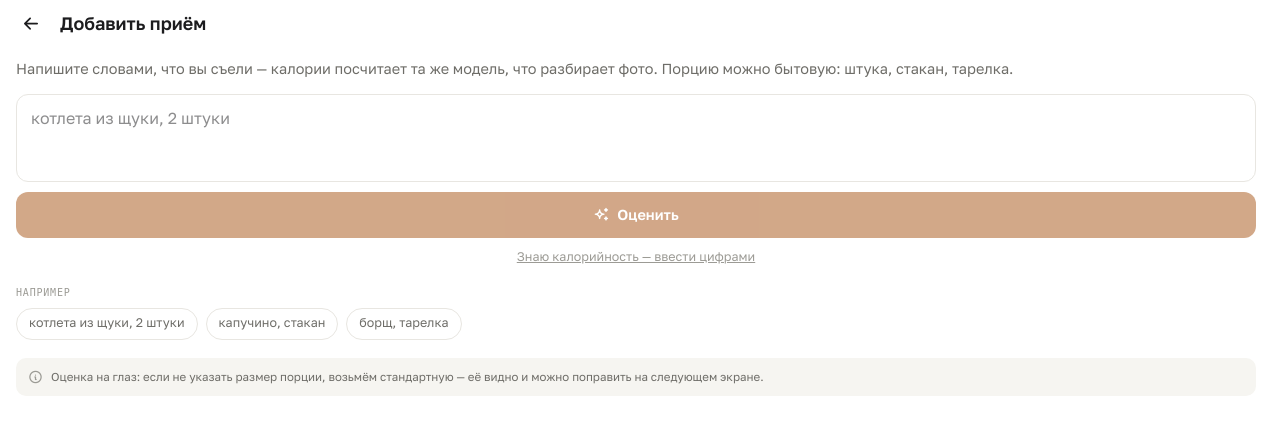
Scenario: AddMealTextScreen — текстовое добавление приёма › «не еда» остаётся на экране с подсказкой — квота за это не списана
Type "asdfgh" into the text box named "Описание приёма".
click(636, 138); type("asdfgh")  # box top-left (16, 94), bottom-right (1256, 182)
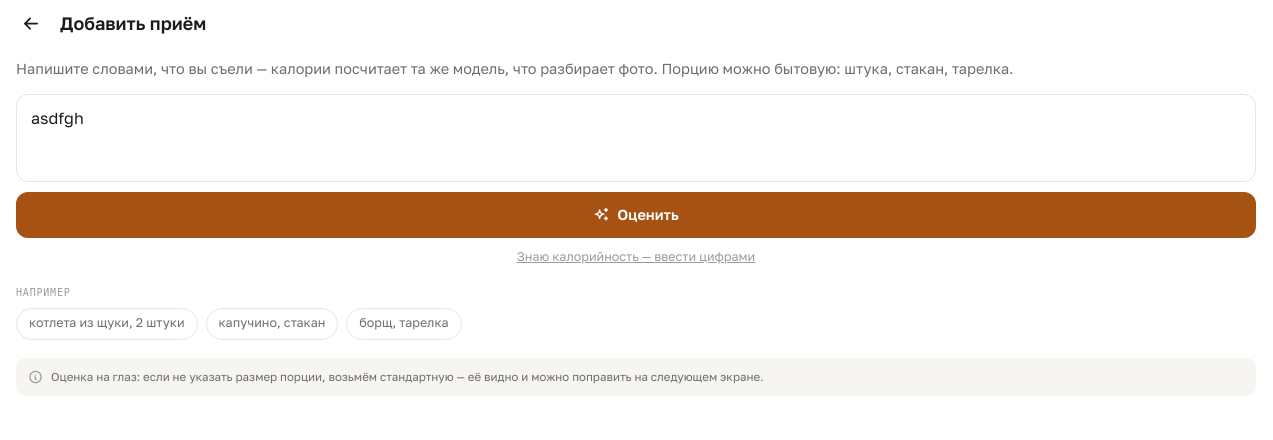
Click the button "Оценить".
click(636, 215)  # box top-left (16, 192), bottom-right (1256, 238)
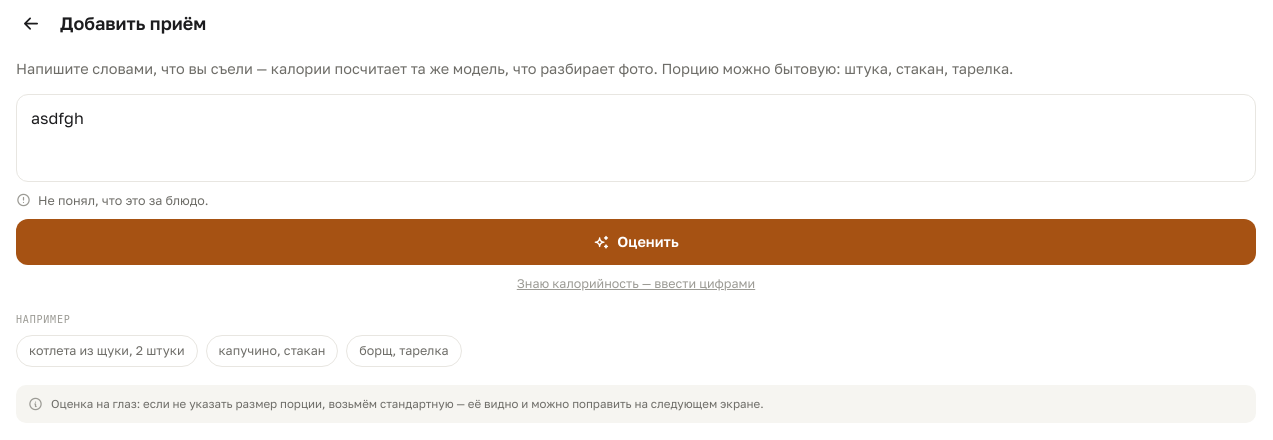
Expected: the text "Не понял, что это за блюдо." is shown, top-left (16, 193), bottom-right (208, 208)
